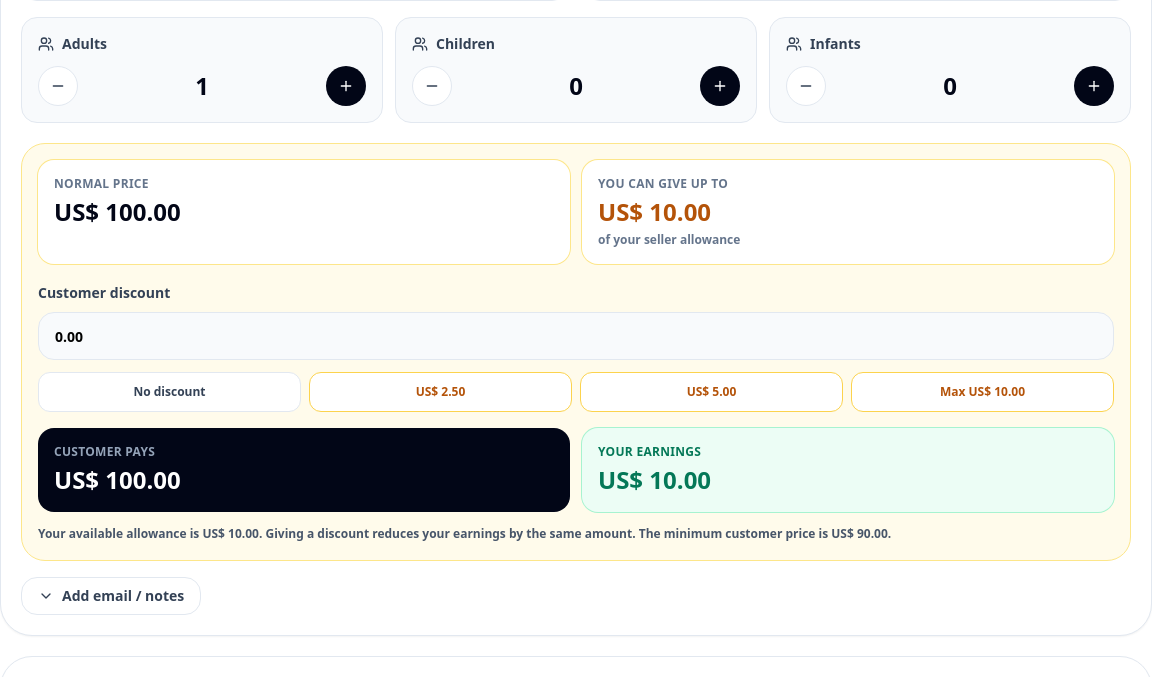
Scenario: TicketingSellerNewBookingPage simple seller discount UI › lets the seller type a simple dollar discount and updates both totals
(page scrolled)
Expected: the text "Normal price" is shown, [54,175,149,192]
Step 1. Type "5" into the field labelled "Customer discount" → (576, 336), box [38,312,1114,360]
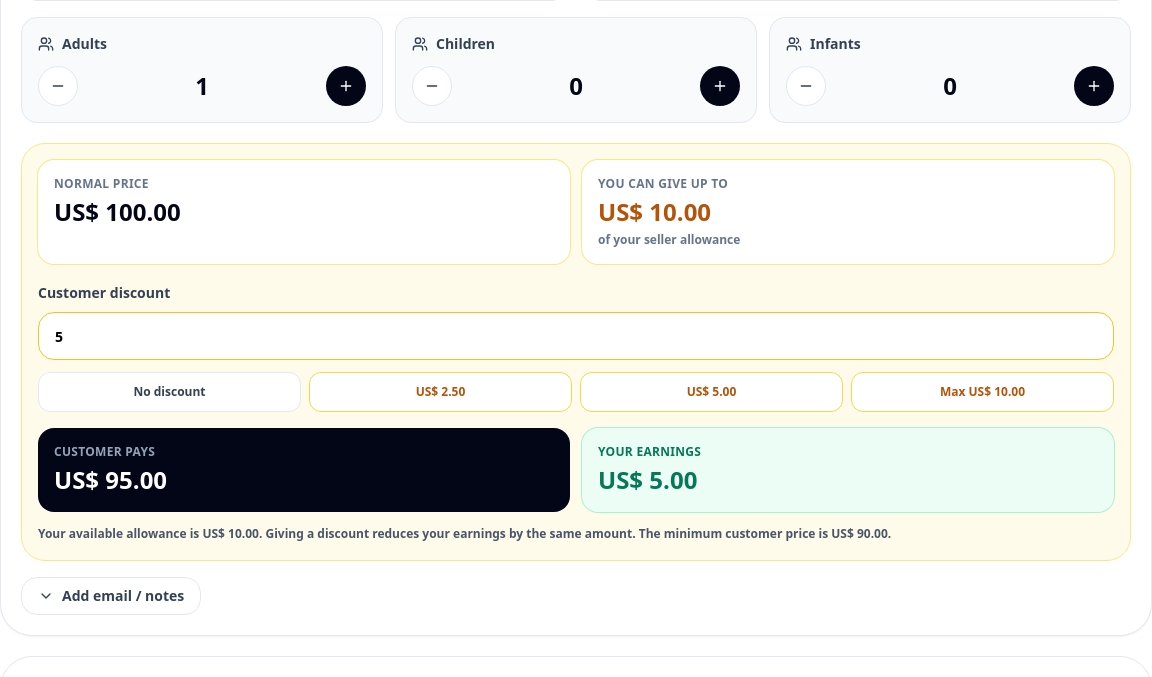
Expected: the button "US$ 5.00" is shown, [580,372,843,412]
Now the text "US$ 95.00" is shown, box [54,463,167,496]
